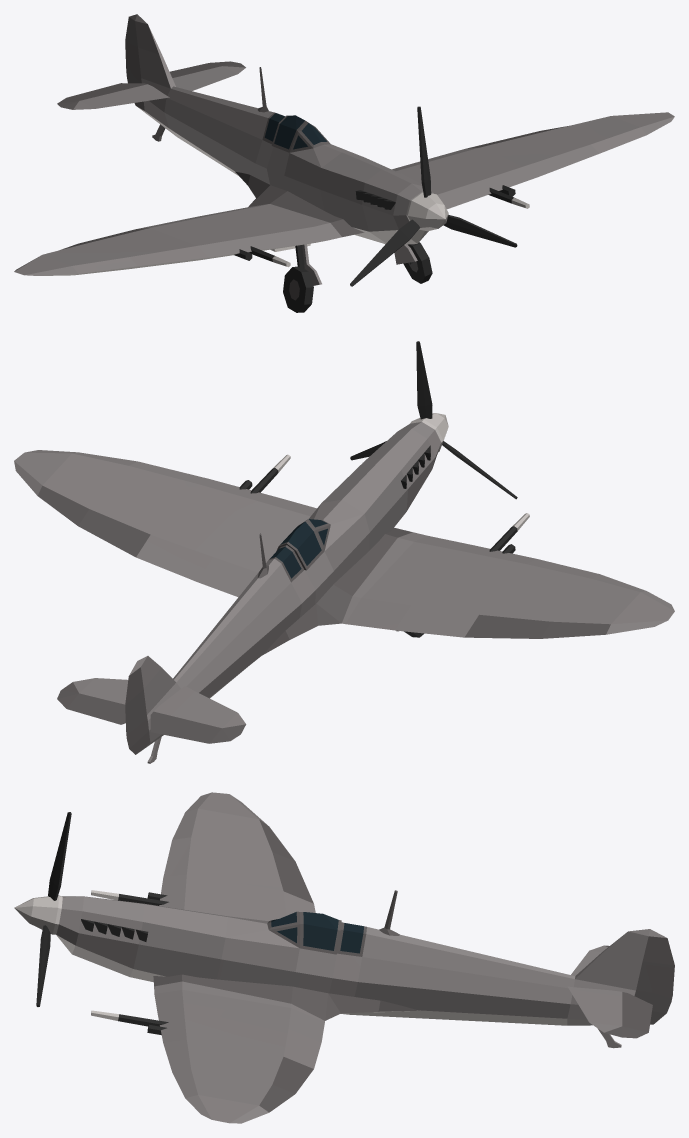
The model's file is spitfire.glb.
The picture shows the model from 3 angles, top to bottom: view 1: azimuth 30°, elevation 25°; view 2: azimuth 150°, elevation 25°; view 3: azimuth 270°, elevation 25°; orthographic projection. The views are drawn at different scales.
Visible parts, largest first — view 1: spitfire-base, spitfire-propeller, spitfire-wheel_FR, spitfire-wheel_FL, spitfire-cockpit; view 2: spitfire-base, spitfire-propeller, spitfire-cockpit; view 3: spitfire-base, spitfire-propeller, spitfire-cockpit, spitfire-door.
Part boxes in pixels (bbox=[...]): spitfire-base: bbox=[14, 14, 674, 275]; spitfire-propeller: bbox=[350, 106, 517, 286]; spitfire-wheel_FR: bbox=[283, 244, 321, 312]; spitfire-wheel_FL: bbox=[394, 242, 432, 283]; spitfire-cockpit: bbox=[271, 115, 306, 152]; spitfire-base: bbox=[14, 422, 674, 763]; spitfire-propeller: bbox=[350, 341, 517, 499]; spitfire-cockpit: bbox=[276, 520, 324, 570]; spitfire-base: bbox=[56, 792, 674, 1123]; spitfire-propeller: bbox=[14, 812, 71, 1006]; spitfire-cockpit: bbox=[299, 912, 341, 954]; spitfire-door: bbox=[295, 948, 336, 978].
Bounding box in the file's own units: 10.55 × 3.61 × 8.95.
1 material, 1 textured.
